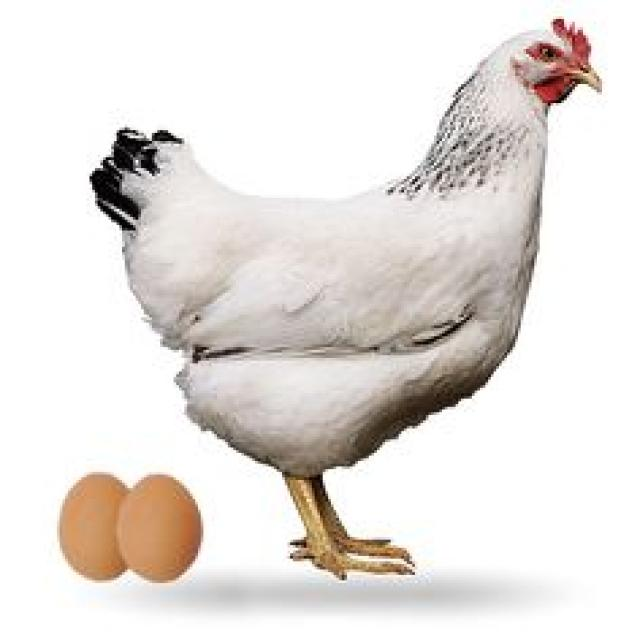Herbivorous: (89, 19, 605, 580)
